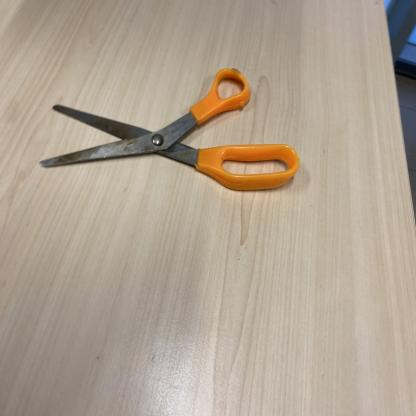scissors: (37, 67, 300, 195)
